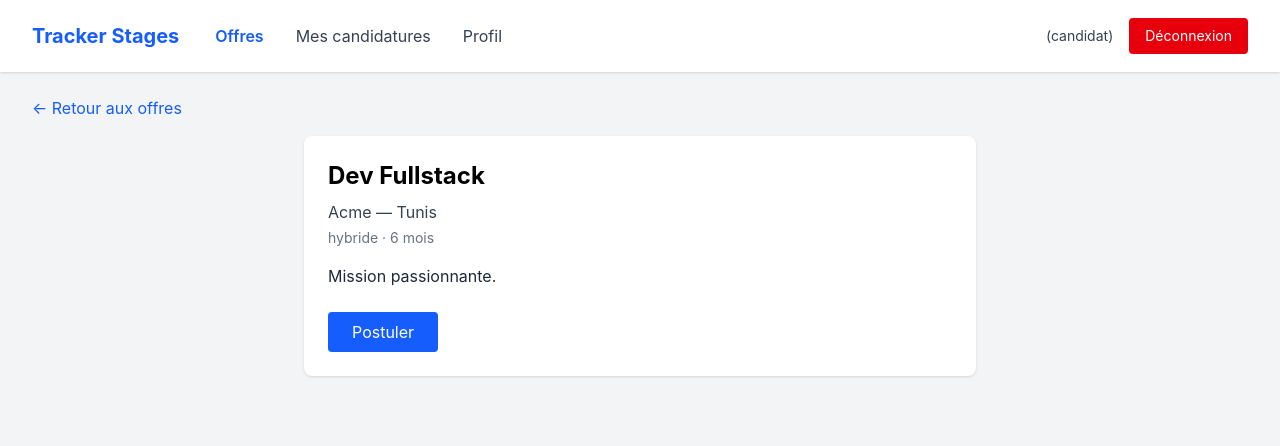
OffreDetailPage › affiche le message d'erreur backend (ex: CV manquant) si la candidature échoue
The image size is (1280, 446).
Click the button "Postuler" at {"x": 383, "y": 332}, box [328, 312, 438, 352]
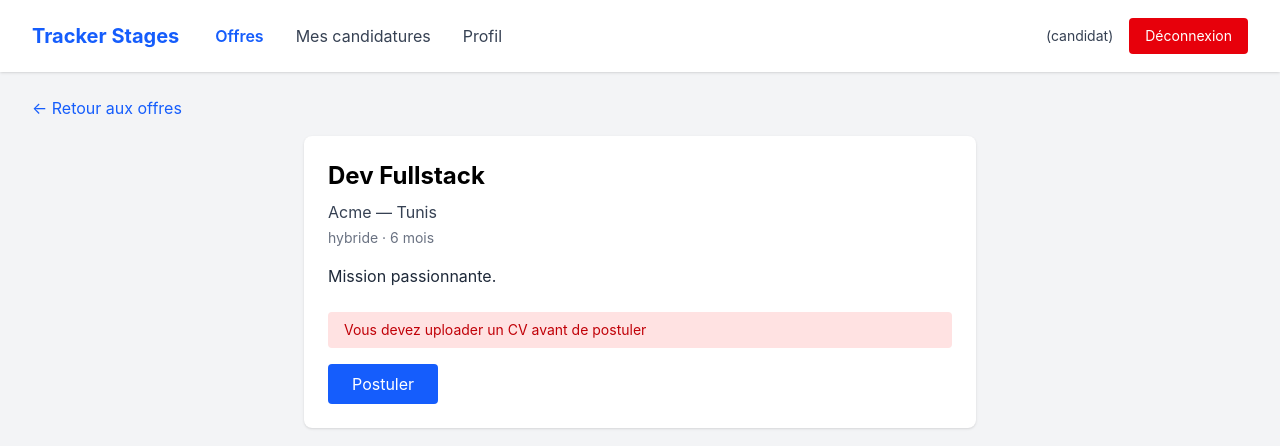
Check: the text "Vous devez uploader un CV avant de postuler" is shown, box [328, 312, 952, 348]
